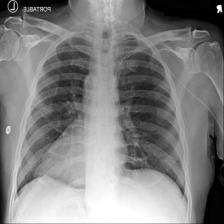normal: (9, 23, 191, 203)
